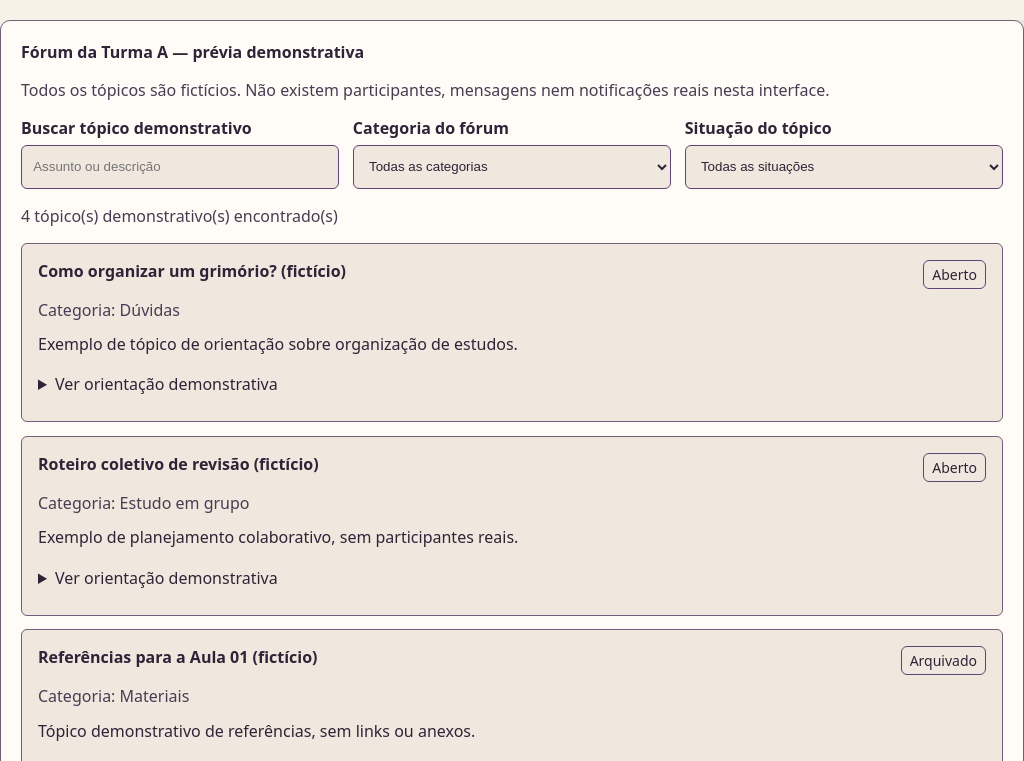
Test case: Professor → Turma A → Fórum (prévia) › filters text and offers explanatory disclosure without real content
The width and height of the screenshot is (1024, 761).
Type "revisão" into the search field labelled "Buscar tópico demonstrativo" at {"x": 180, "y": 167}, box x1=21 y1=145 x2=339 y2=189
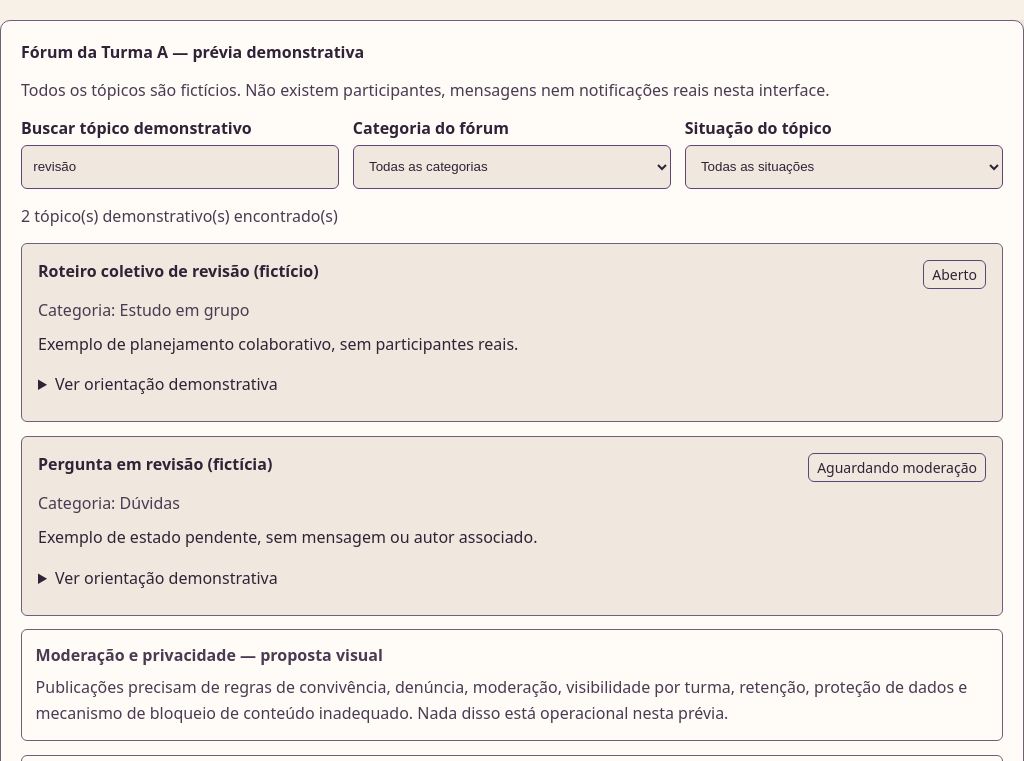
expect the list item "Pergunta em revisão (fictícia)" is shown: met, box x1=38 y1=453 x2=272 y2=475
expect the text "2 tópico(s) demonstrativo(s) encontrado(s)" is shown: met, box x1=21 y1=205 x2=338 y2=227
